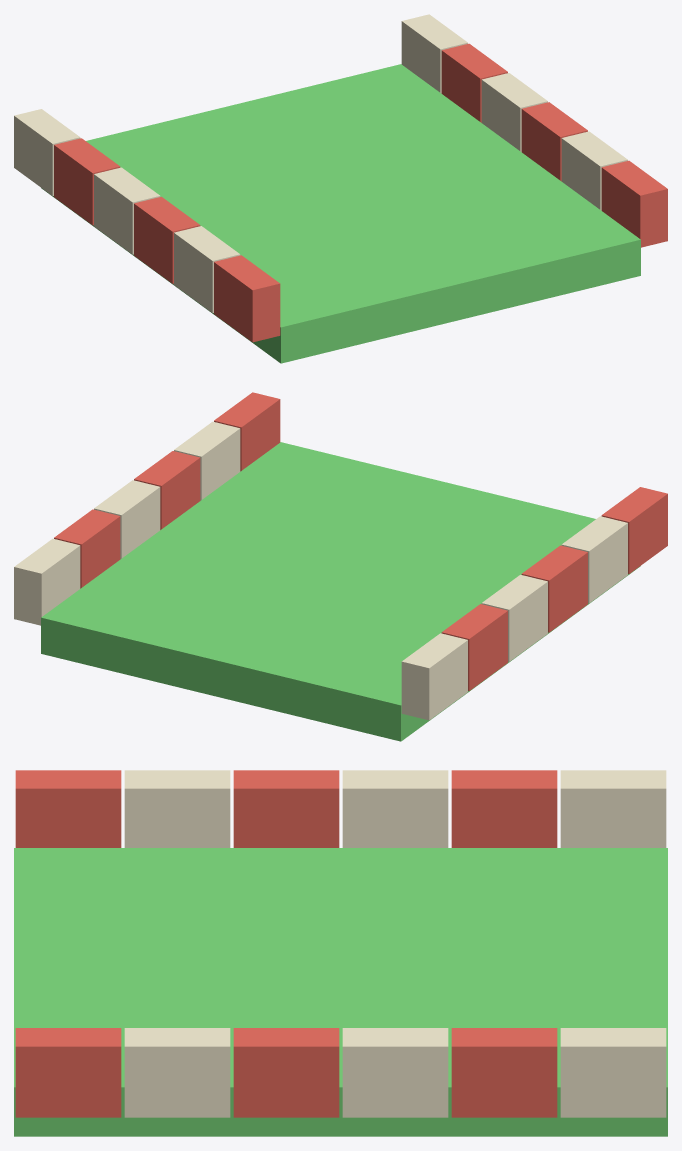
The model's file is carnival_straight_6m.glb.
3 renders of one model, top to bottom at view 1: azimuth 30°, elevation 25°; view 2: azimuth 150°, elevation 25°; view 3: azimuth 270°, elevation 25°, orthographic. The views are drawn at different scales.
Parts seen in each view (by area): view 1: Mesh_Floor.001, Mesh_Wall_L.001, Mesh_Wall_R.001; view 2: Mesh_Floor.001, Mesh_Wall_L.001, Mesh_Wall_R.001; view 3: Mesh_Floor.001, Mesh_Wall_R.001, Mesh_Wall_L.001.
Boxes of the visible parts, bbox=[...] form: Mesh_Floor.001: bbox=[41, 64, 640, 363]; Mesh_Wall_L.001: bbox=[14, 109, 280, 342]; Mesh_Wall_R.001: bbox=[401, 14, 667, 247]; Mesh_Floor.001: bbox=[41, 442, 640, 741]; Mesh_Wall_L.001: bbox=[401, 487, 667, 720]; Mesh_Wall_R.001: bbox=[14, 392, 280, 625]; Mesh_Floor.001: bbox=[14, 848, 667, 1136]; Mesh_Wall_R.001: bbox=[15, 1028, 666, 1117]; Mesh_Wall_L.001: bbox=[15, 770, 666, 847].
Size of what is drawn, in the model's own units: 6 by 1.1 by 6.
